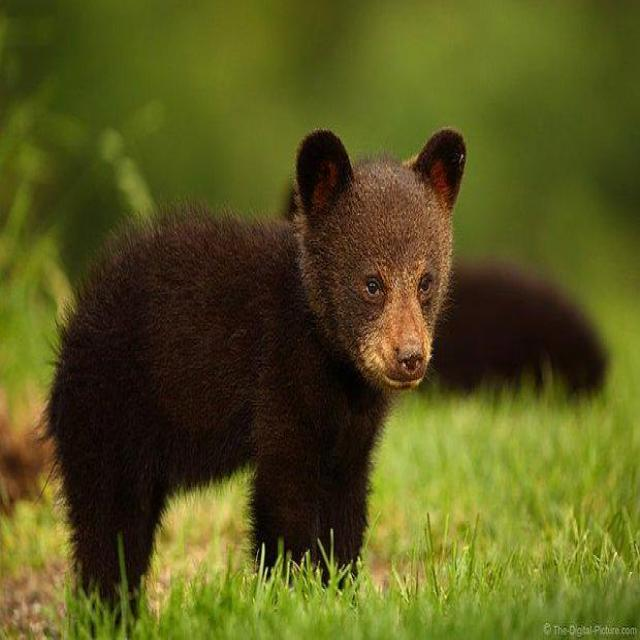Bear: (41, 128, 469, 609), (427, 258, 610, 400)
